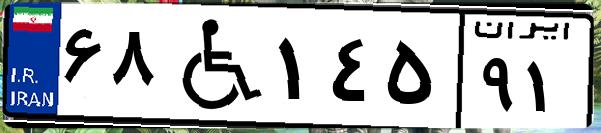1: (270, 28, 330, 110), (525, 38, 570, 115)
4: (330, 28, 385, 110)
5: (385, 28, 445, 110)
6: (57, 26, 110, 100)
8: (110, 28, 158, 98)
9: (475, 38, 525, 113)
ژ (معلولین و جانبازان): (158, 12, 270, 120)
